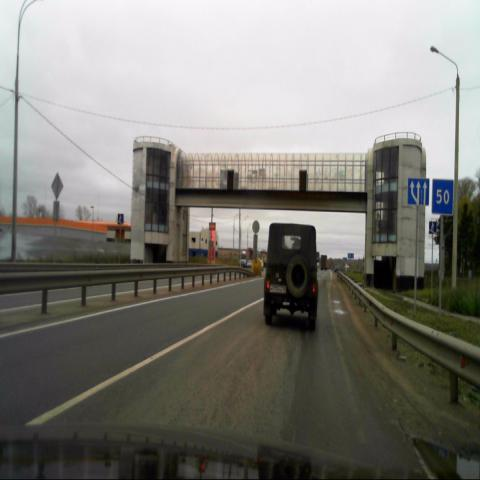5_15_2_2: (408, 178, 430, 206)
6_2: (432, 180, 454, 213)
